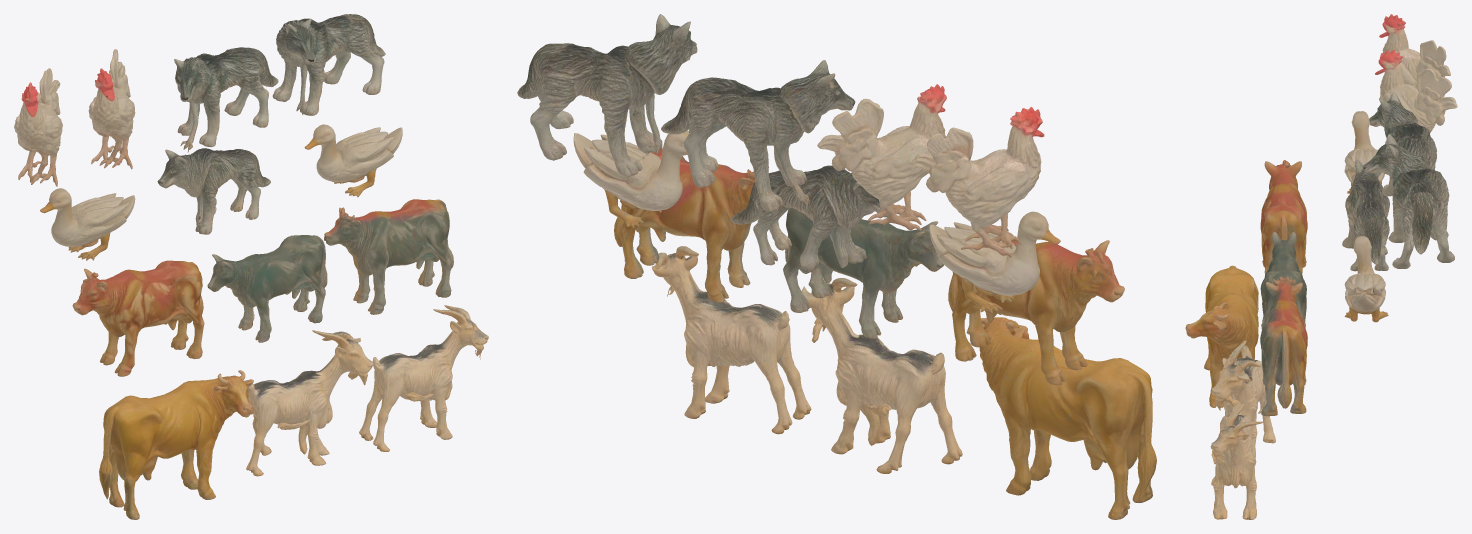
File: enemies_menagerie.glb
3 renders of one model, left to right at view 1: azimuth 30°, elevation 25°; view 2: azimuth 150°, elevation 25°; view 3: azimuth 270°, elevation 25°, orthographic. The views are drawn at different scales.
Size of the model in its own units: 1.9 by 1.74 by 1.22.
1 material, 1 textured.
